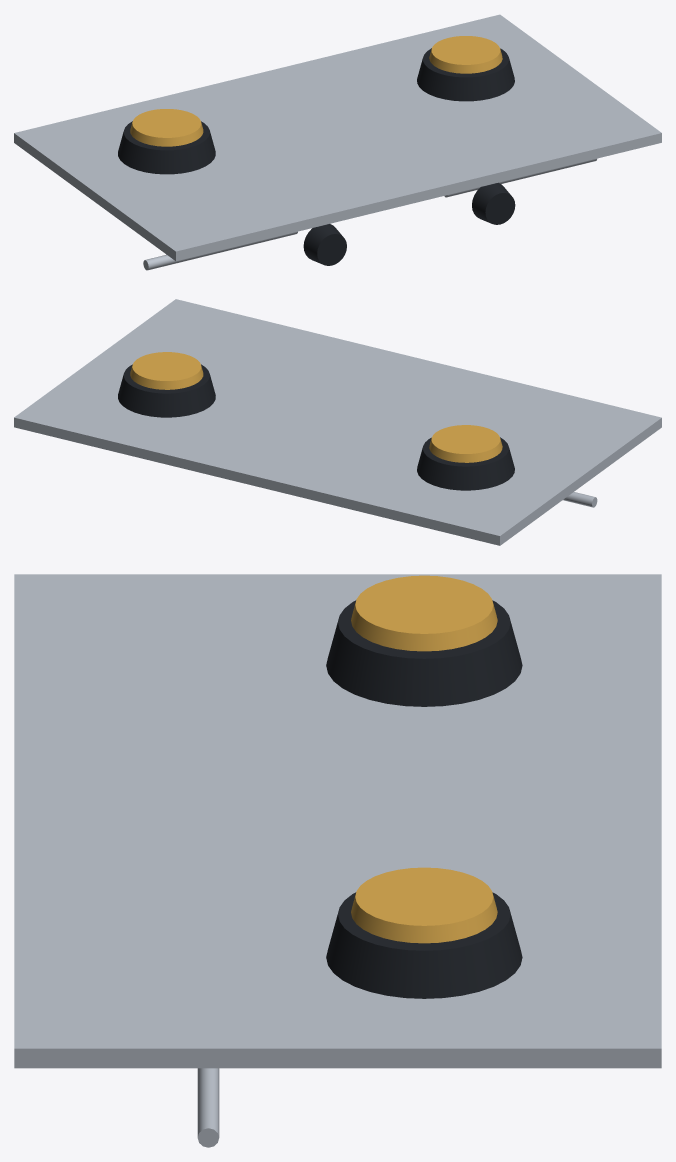
The model's file is sample-stove.glb.
3 renders of one model, top to bottom at view 1: azimuth 30°, elevation 25°; view 2: azimuth 150°, elevation 25°; view 3: azimuth 270°, elevation 25°, orthographic. The views are drawn at different scales.
Parts seen in each view (by area): view 1: outerCase_panel, burnerBase_0, burnerBase_1, burnerCap_0, burnerCap_1, knob_0, knob_1, gasPipe_0; view 2: outerCase_panel, burnerBase_0, burnerBase_1, burnerCap_0, burnerCap_1; view 3: outerCase_panel, burnerBase_0, burnerBase_1, burnerCap_0, burnerCap_1, gasPipe_1.
Part boxes in pixels (bbox=[...]): outerCase_panel: bbox=[14, 14, 661, 261]; burnerBase_0: bbox=[118, 121, 215, 174]; burnerBase_1: bbox=[417, 48, 514, 101]; burnerCap_0: bbox=[130, 109, 203, 146]; burnerCap_1: bbox=[429, 36, 502, 73]; knob_0: bbox=[303, 224, 346, 265]; knob_1: bbox=[472, 182, 515, 224]; gasPipe_0: bbox=[143, 231, 297, 270]; outerCase_panel: bbox=[14, 299, 661, 545]; burnerBase_0: bbox=[417, 437, 514, 490]; burnerBase_1: bbox=[118, 364, 215, 417]; burnerCap_0: bbox=[429, 425, 502, 462]; burnerCap_1: bbox=[130, 352, 203, 389]; outerCase_panel: bbox=[14, 574, 661, 1068]; burnerBase_0: bbox=[326, 600, 522, 706]; burnerBase_1: bbox=[326, 892, 522, 998]; burnerCap_0: bbox=[351, 575, 497, 651]; burnerCap_1: bbox=[351, 867, 497, 943]; gasPipe_1: bbox=[197, 1068, 219, 1147].
Bounding box in the file's own units: 5.2 × 0.91 × 3.
